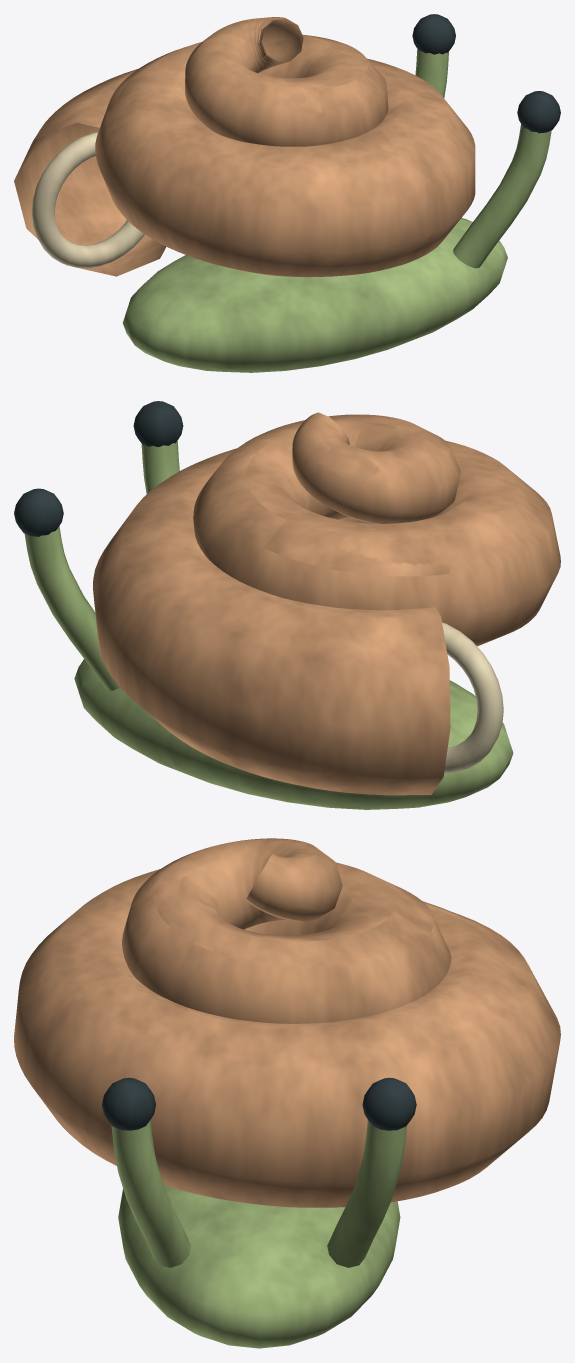
The model's file is periwinkle.glb.
3 views of the same model, one above another, from view 1: azimuth 30°, elevation 25°; view 2: azimuth 150°, elevation 25°; view 3: azimuth 270°, elevation 25° (orthographic). The views are drawn at different scales.
Visible parts, largest first — view 1: periwinkle_textured_mesh; view 2: periwinkle_textured_mesh; view 3: periwinkle_textured_mesh.
Part boxes in pixels (box(x1,y1,x2,y2)): periwinkle_textured_mesh: box(14, 14, 560, 372); periwinkle_textured_mesh: box(14, 401, 560, 809); periwinkle_textured_mesh: box(14, 838, 560, 1348).
Size of the model in its own units: 1.67 by 1.25 by 1.51.
1 material, 1 textured.
